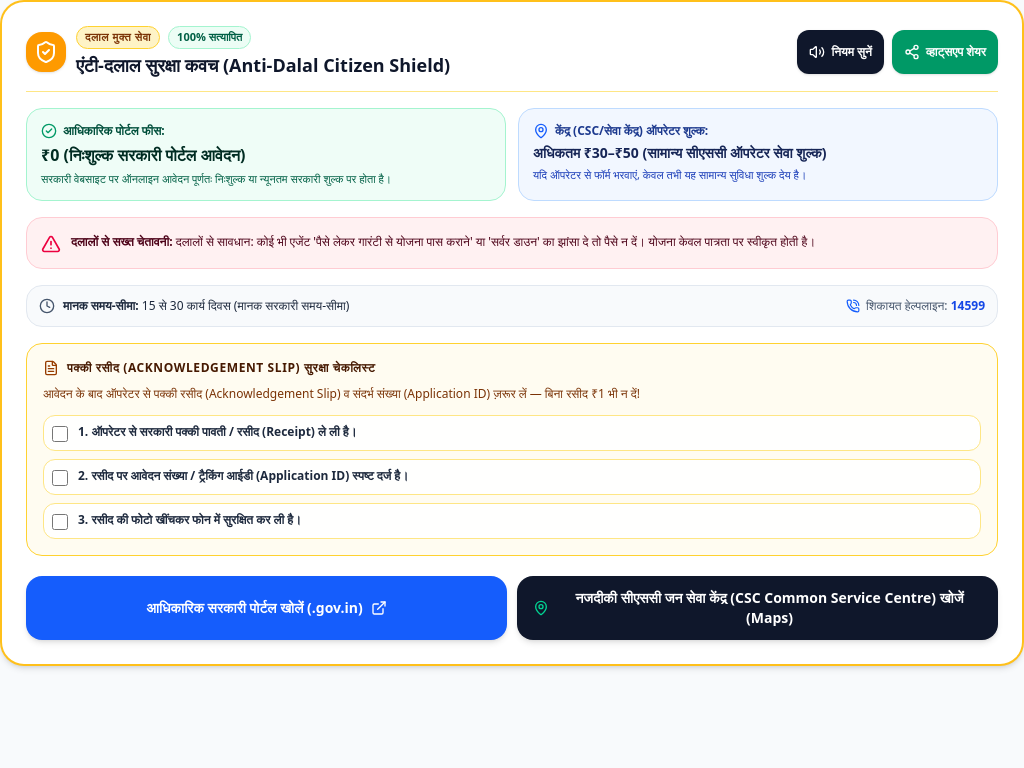
AntiDalalShield Component (components/AntiDalalShield.tsx) › toggles receipt checklist checkboxes and reveals success confirmation
The image size is (1024, 768).
Expected: the text "सुरक्षा कवच सक्रिय: आपकी रसीद सुरक्षित है" is not shown
Check all three
Step 1. Click the checkbox labelled "1. ऑपरेटर से सरकारी पक्की पावती / रसीद (Receipt) ले ली है।" → (60, 434), box [52, 426, 68, 442]
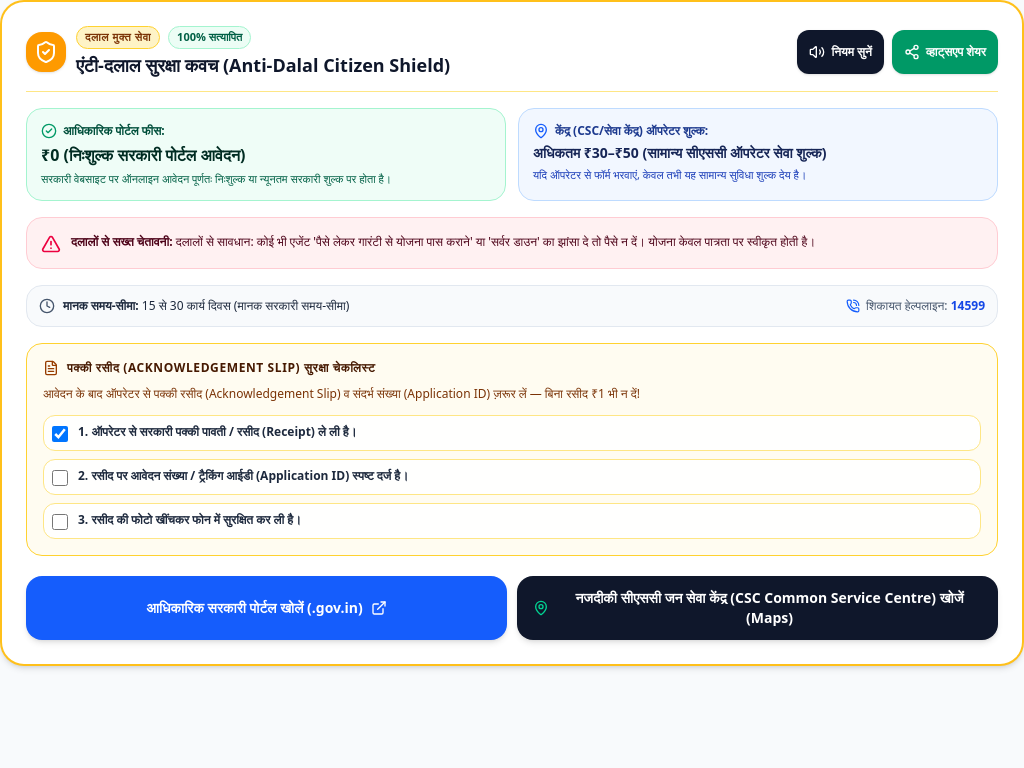
Step 2. Click the 2nd checkbox → (60, 478), box [52, 470, 68, 486]
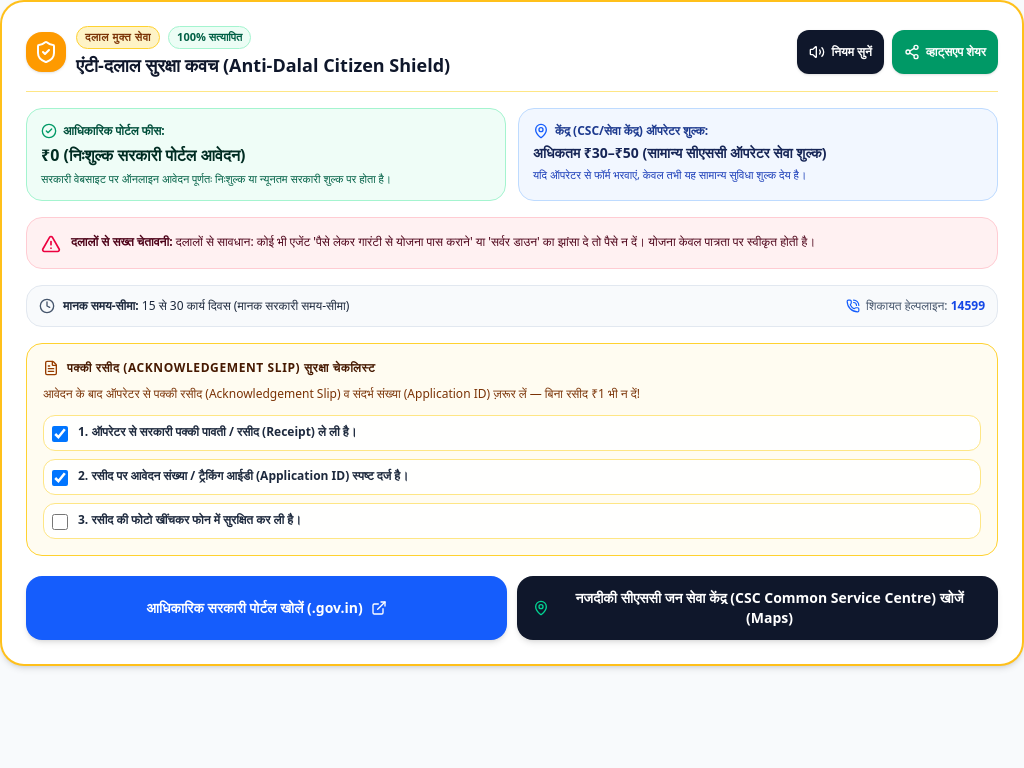
Step 3. Click the checkbox labelled "3. रसीद की फोटो खींचकर फोन में सुरक्षित कर ली है।" → (60, 522), box [52, 514, 68, 530]
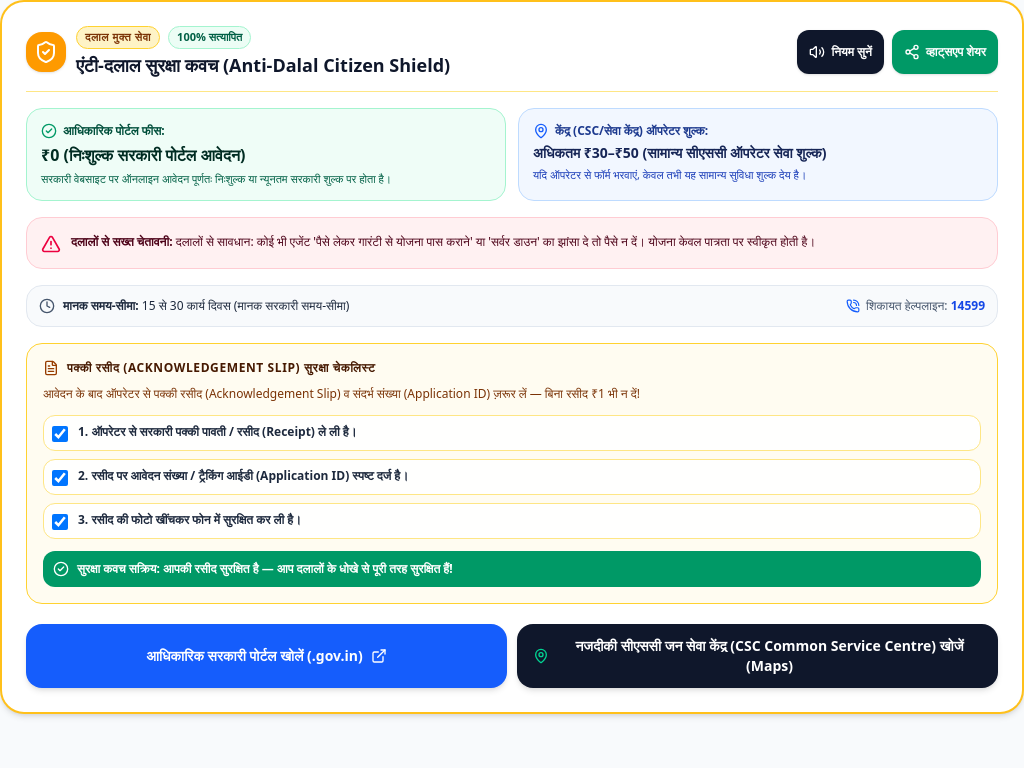
Result: the text "सुरक्षा कवच सक्रिय: आपकी रसीद सुरक्षित है" is shown at [77, 560, 453, 577]
